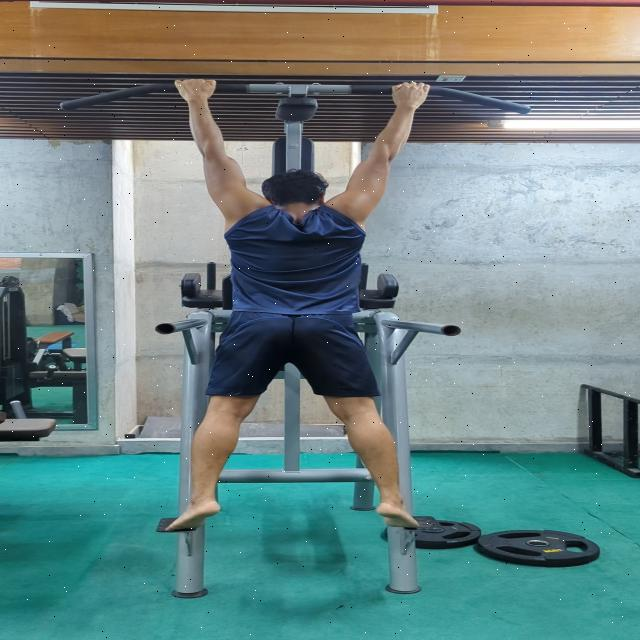Normal_PullUps: (153, 75, 441, 535)
